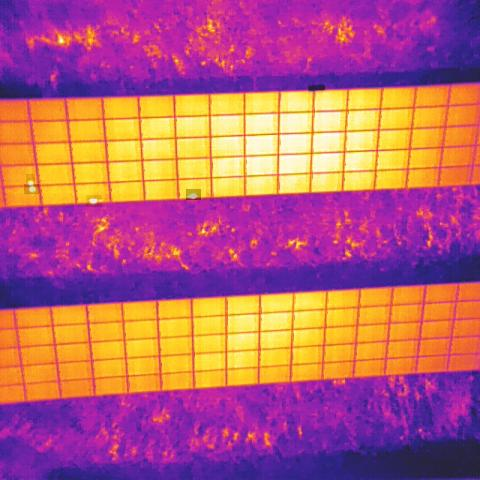fault: (86, 195, 102, 207), (186, 189, 201, 200), (24, 184, 39, 194), (26, 174, 35, 186)
